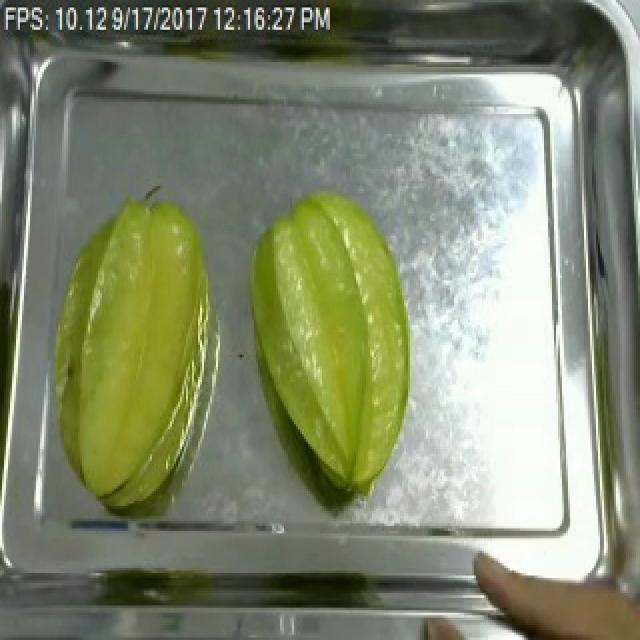fruit: (36, 184, 220, 524), (236, 181, 420, 506), (466, 543, 640, 640)
